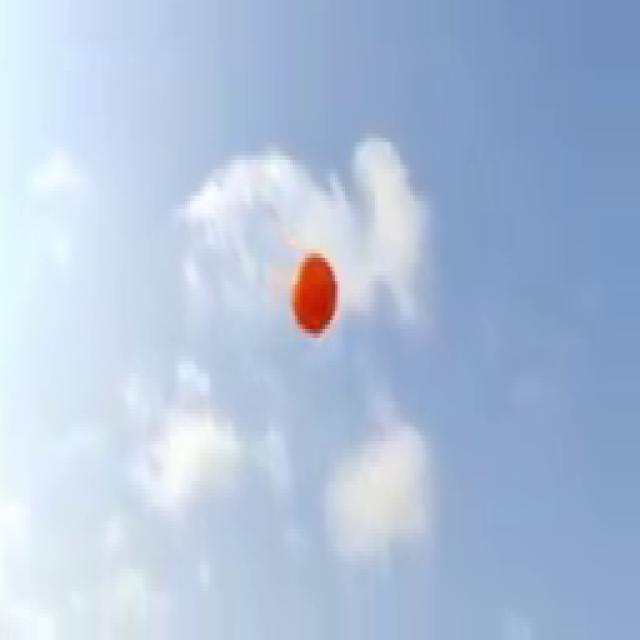red: (289, 249, 338, 338)
